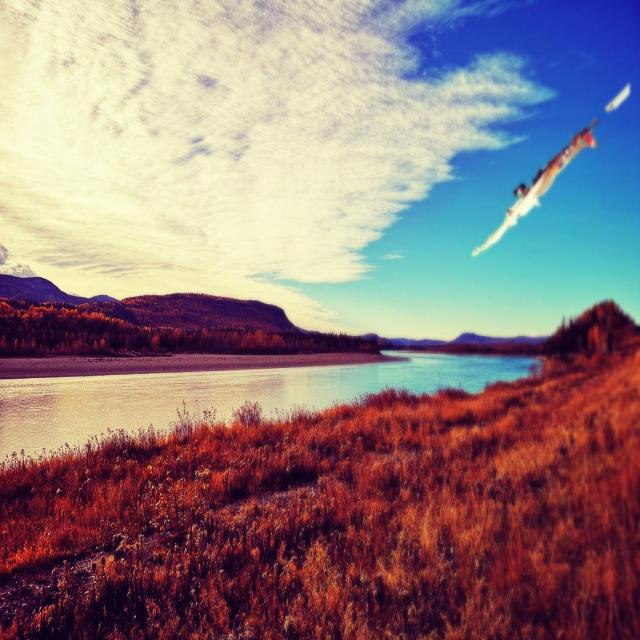airplane: (470, 81, 630, 260)
